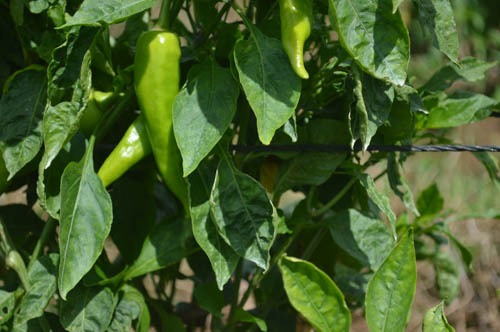ChiliPepper: (139, 30, 189, 204), (95, 119, 151, 195), (280, 3, 309, 82)
